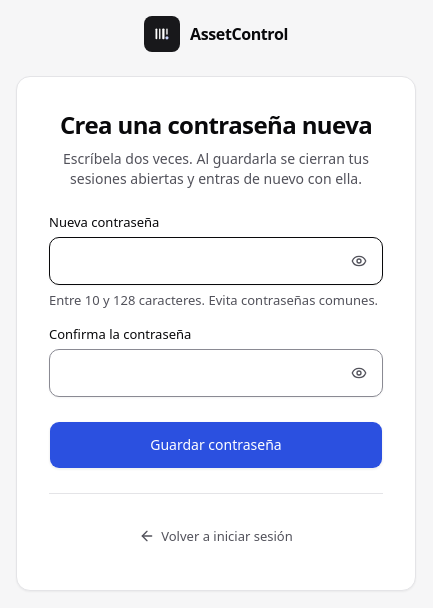
it: /restablecer: enviar › 400 enlace_invalido muestra el mismo mensaje con salida a /recuperar y olvida el token
This screenshot has width=433, height=608.
Type "Una-clave-nueva-2026" into the password field labelled "Nueva contraseña" at (216, 260), box [49,236,383,284]
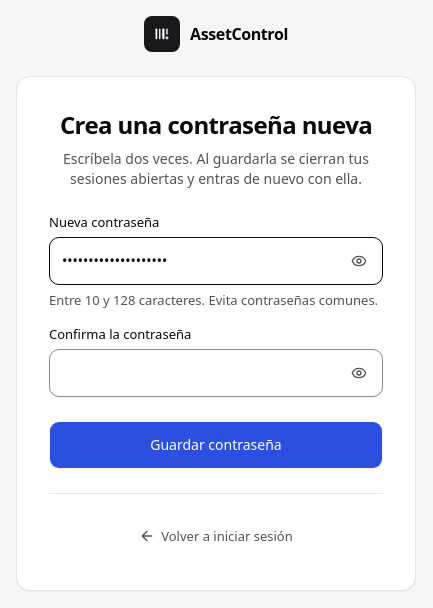
Type "Una-clave-nueva-2026" into the password field labelled "Confirma la contraseña" at (216, 372), box [49,348,383,396]
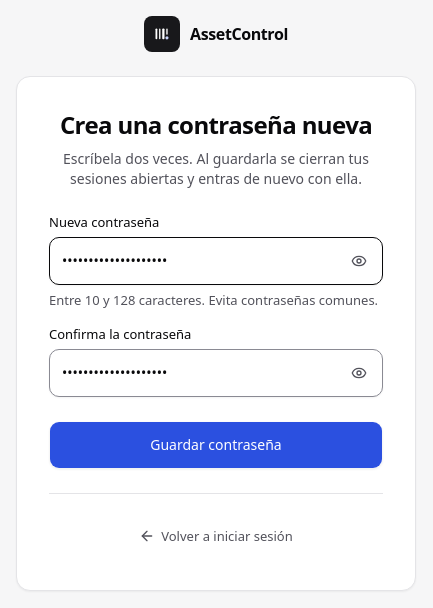
Click the button "Guardar contraseña" at (216, 444), box [49,420,383,468]
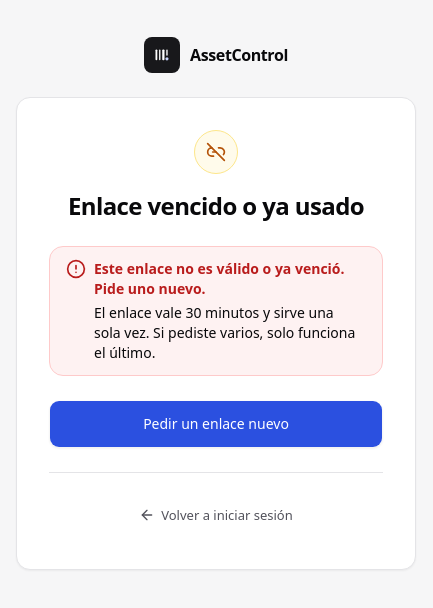
Result: the message shows "Este enlace no es válido o ya venció. Pide uno nuevo." at [94,258,344,298]
Result: the text labelled "Nueva contraseña" is gone
